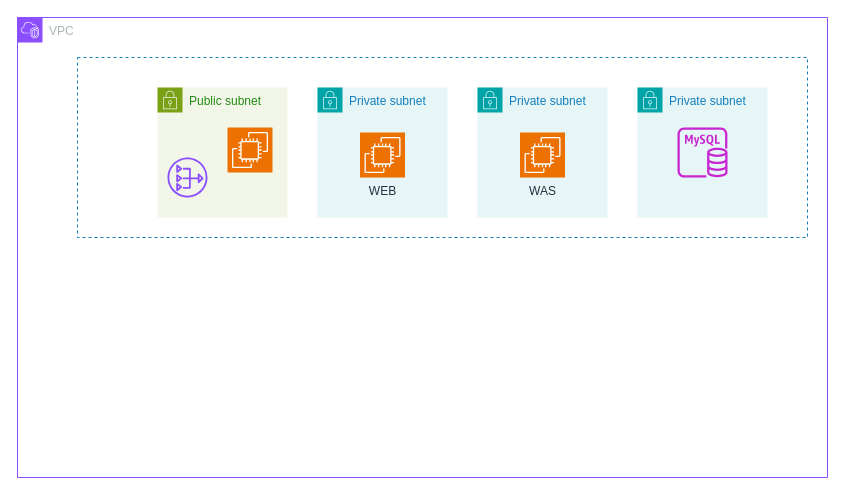
The diagram is 845 pixels wide and 495 high, and some of its shapes have lost their labels. Here are the shapes that lost their labels. From the top down, the box of each, then its label:
(226, 126, 272, 172): bastion
(76, 56, 808, 238): Availability Zone
(677, 127, 727, 177): DB
